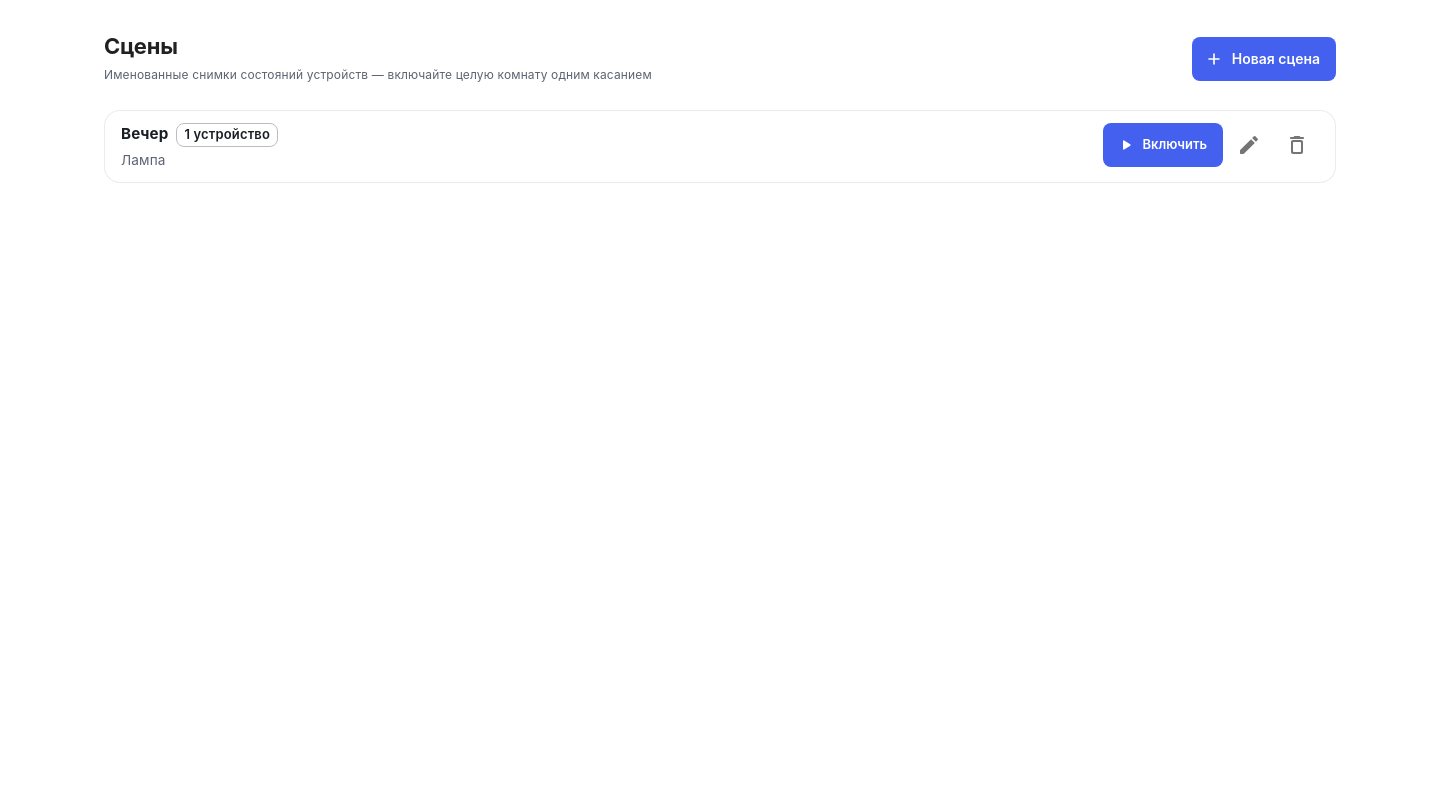
Test: Scenes page › lists a scene and activates it, confirming with a toast
Expected: the text "Вечер" is shown, [121,123,168,146]
Click the button "Включить" at (1163, 145), box [1102,123,1223,167]
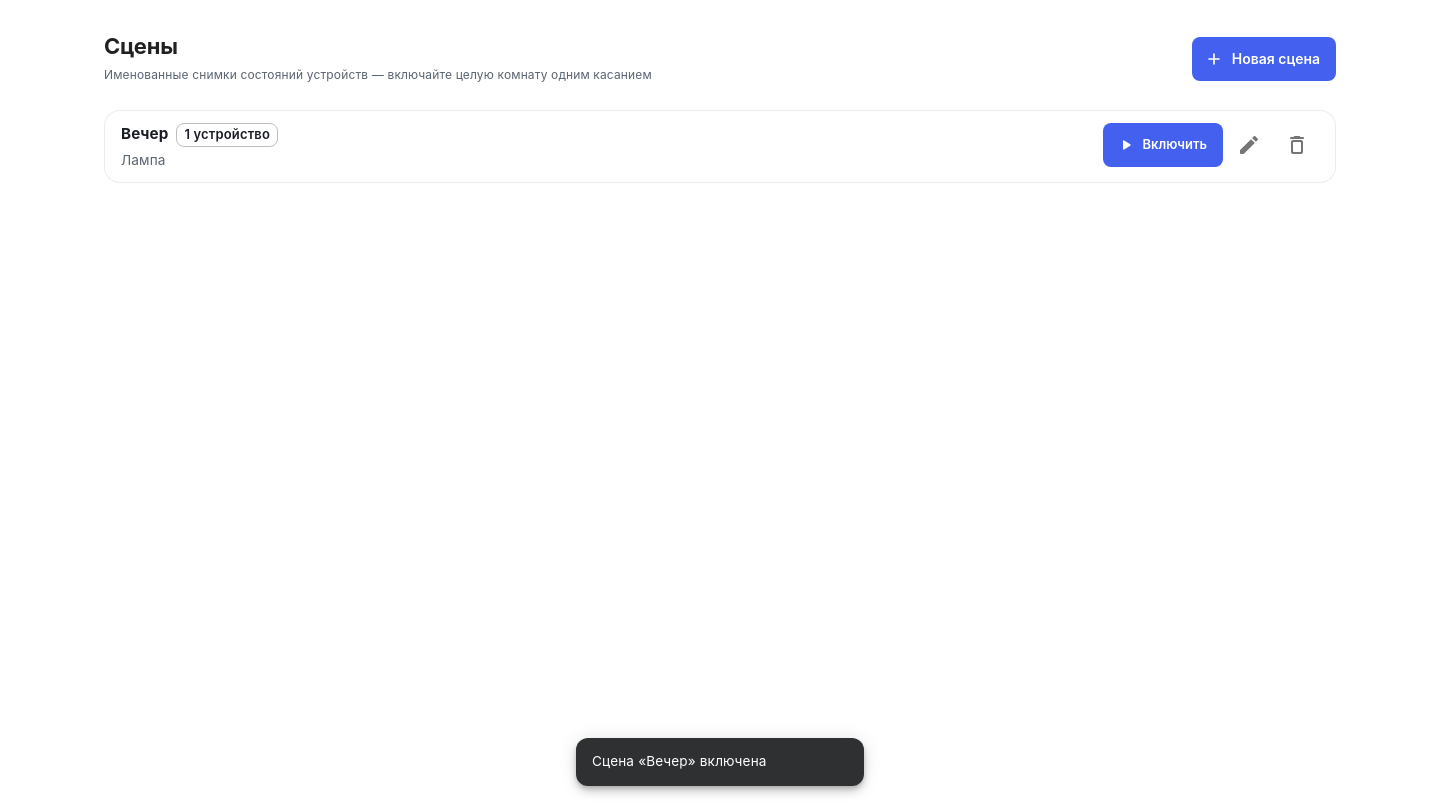
Result: the text "Сцена «Вечер» включена" is shown at [592,753,767,769]
